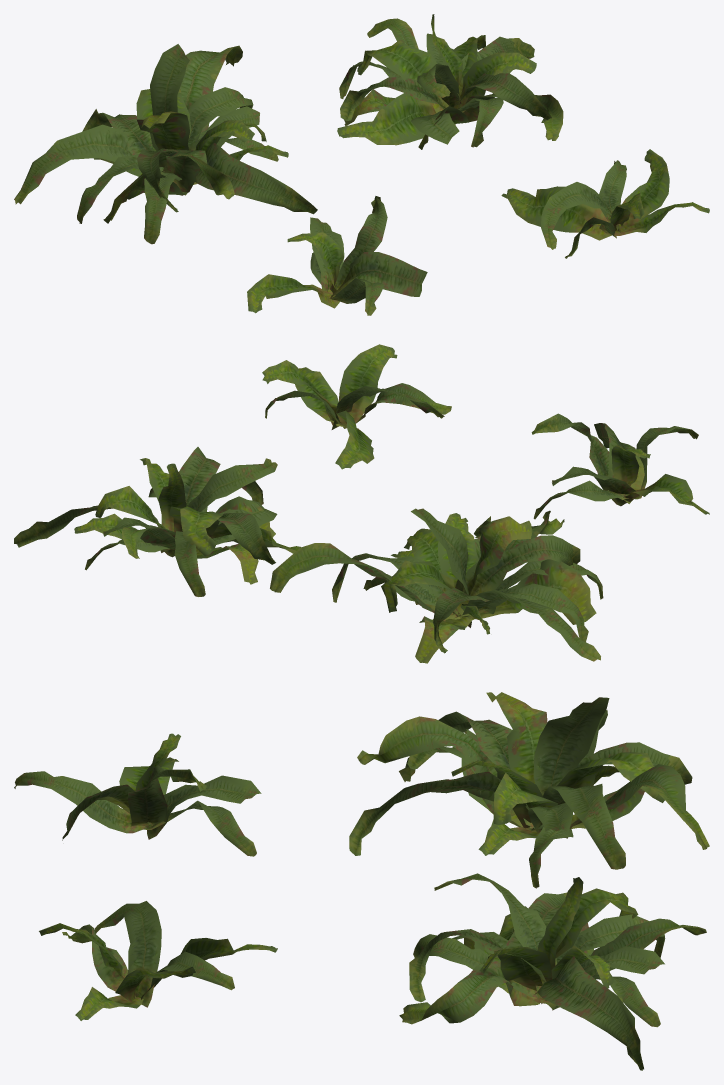
The model's file is fern.glb.
The picture shows the model from 3 angles, top to bottom: view 1: azimuth 30°, elevation 25°; view 2: azimuth 150°, elevation 25°; view 3: azimuth 270°, elevation 25°; orthographic projection. The views are drawn at different scales.
Visible parts, largest first — view 1: fern_02_b; view 2: fern_02_b; view 3: fern_02_b.
Boxes of the visible parts, bbox=[...] form: fern_02_b: bbox=[14, 14, 709, 315]; fern_02_b: bbox=[14, 344, 709, 663]; fern_02_b: bbox=[14, 692, 709, 1070].
Bounding box in the file's own units: 1.97 × 0.4277 × 1.72.
1 material, 1 textured.
